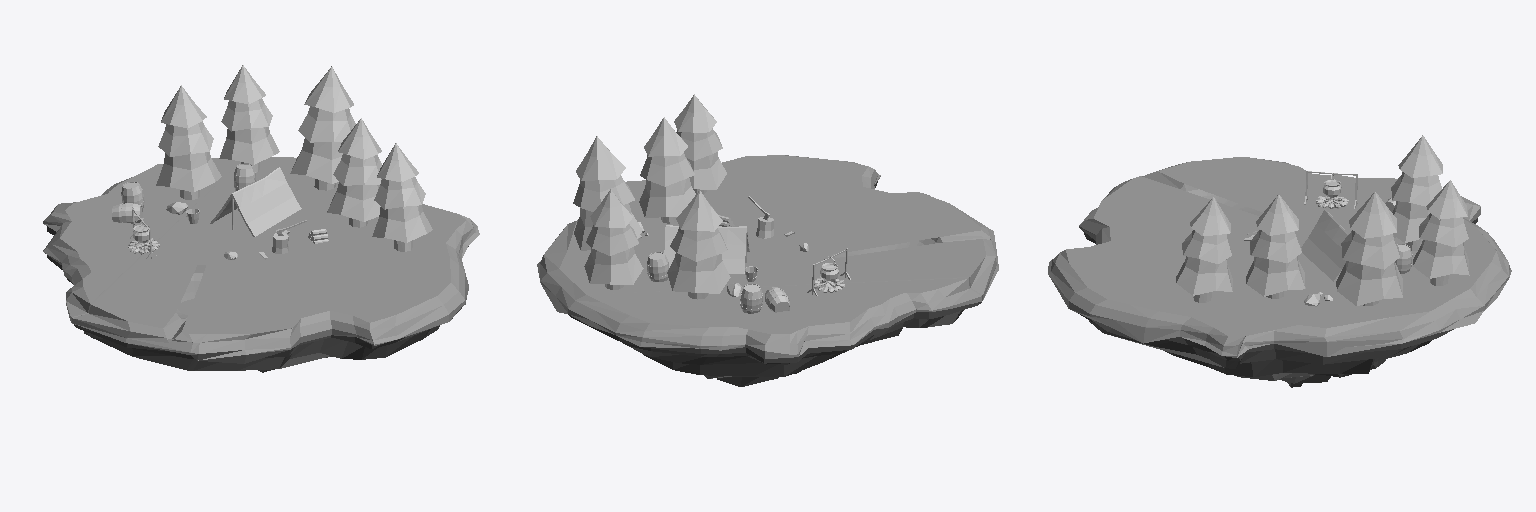
File: islandwithdecor.obj
3 renders of one model, left to right at view 1: azimuth 30°, elevation 25°; view 2: azimuth 150°, elevation 25°; view 3: azimuth 270°, elevation 25°, orthographic.
Visible parts, largest first — view 1: Cube.002_Mesh.164, Object001.001_Mesh.001, Cube.001_Mesh.163, Object001.002_Mesh.002, Object001.004_Mesh.004, Object001_Mesh; view 2: Cube.002_Mesh.164, Object001.001_Mesh.001, Cube.001_Mesh.163, Object001.004_Mesh.004, Object001.002_Mesh.002, Object001_Mesh; view 3: Cube.002_Mesh.164, Object001.001_Mesh.001, Cube.001_Mesh.163, Object001.002_Mesh.002, Object001_Mesh.
Part boxes in pixels (x1,y1,x2,y2): Cube.002_Mesh.164: (43,157,479,363); Object001.001_Mesh.001: (156,65,432,251); Cube.001_Mesh.163: (47,226,468,372); Object001.002_Mesh.002: (210,167,301,236); Object001.004_Mesh.004: (112,164,255,223); Object001_Mesh: (128,208,159,259); Cube.002_Mesh.164: (537,155,998,358); Object001.001_Mesh.001: (573,94,730,299); Cube.001_Mesh.163: (568,181,981,386); Object001.004_Mesh.004: (647,252,789,313); Object001.002_Mesh.002: (664,225,749,273); Object001_Mesh: (807,248,850,295); Cube.002_Mesh.164: (1048,157,1511,357); Object001.001_Mesh.001: (1176,135,1469,305); Cube.001_Mesh.163: (1078,218,1477,387); Object001.002_Mesh.002: (1301,209,1348,281); Object001_Mesh: (1304,171,1357,208).
Size of the model in its own units: 52.48 by 31.43 by 52.83.